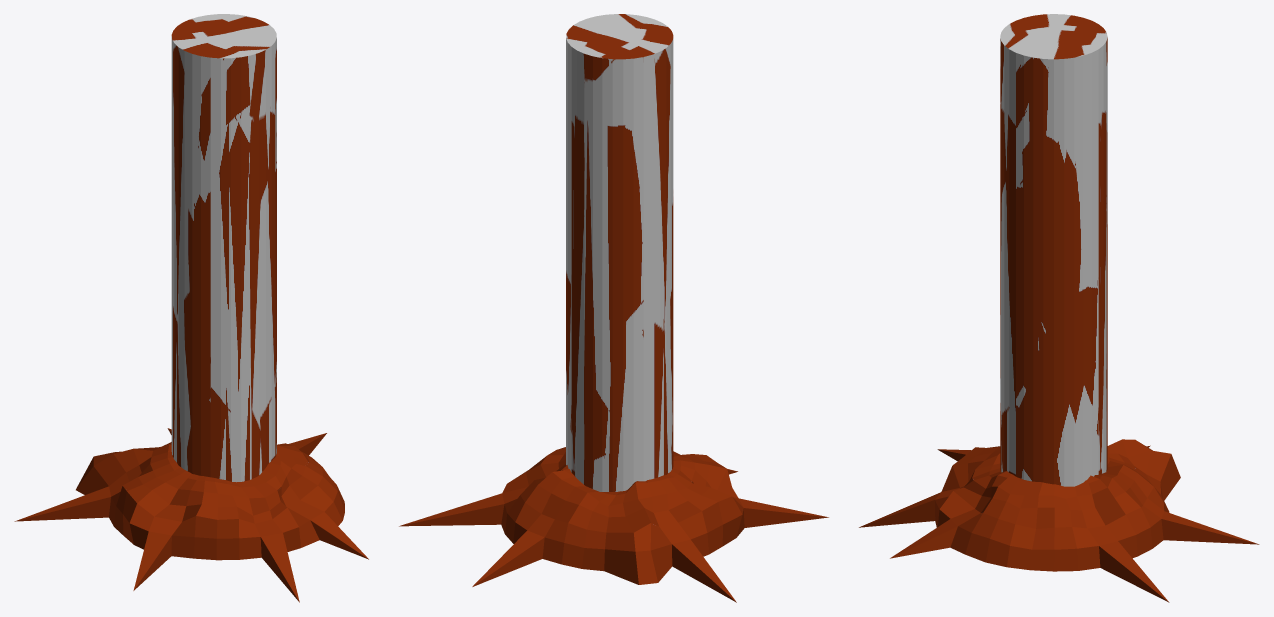
File: LargeTreeBottomPiece.fbx
3 views of the same model, side by side, from view 1: azimuth 30°, elevation 25°; view 2: azimuth 150°, elevation 25°; view 3: azimuth 270°, elevation 25° (orthographic). The views are drawn at different scales.
Visible parts, largest first — view 1: Sphere; view 2: Sphere; view 3: Sphere.
Part boxes in pixels (box(x1,y1,x2,y2)): Sphere: box(14, 14, 368, 602); Sphere: box(399, 14, 828, 602); Sphere: box(859, 14, 1259, 602).
Size of the model in its own units: 20125 by 29292 by 21289.
2 materials, 2 textured.
